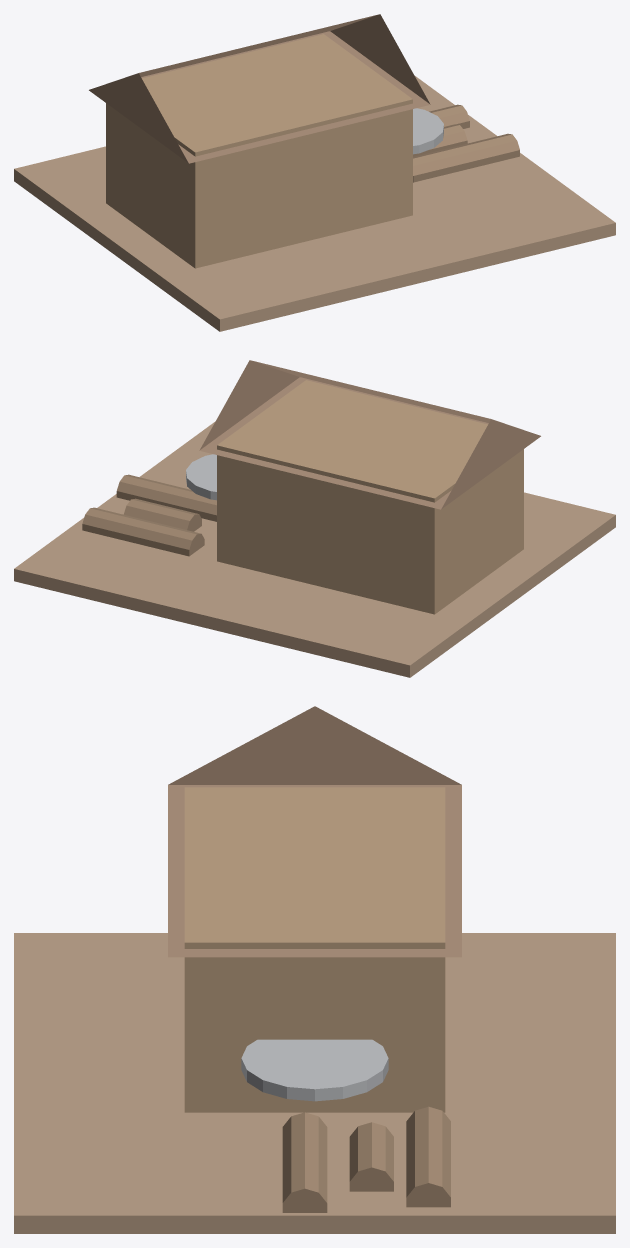
The model's file is sawmill.glb.
The picture shows the model from 3 angles, top to bottom: view 1: azimuth 30°, elevation 25°; view 2: azimuth 150°, elevation 25°; view 3: azimuth 270°, elevation 25°; orthographic projection. The views are drawn at different scales.
Visible parts, largest first — view 1: mill_body, ground, mill_roof, log_4, log_3, saw_blade, log_2, log_1; view 2: mill_body, ground, mill_roof, log_0, log_2, log_4, log_1, log_3, saw_blade; view 3: ground, mill_body, mill_roof, saw_blade, log_2, log_4, log_1, log_3, log_0.
Part boxes in pixels (x1,y1,x2,y2): mill_body: (106, 34, 412, 268); ground: (14, 75, 615, 331); mill_roof: (89, 14, 430, 163); log_4: (445, 133, 519, 171); log_3: (413, 145, 476, 182); saw_blade: (413, 108, 443, 154); log_2: (413, 124, 467, 156); log_1: (429, 104, 469, 128); mill_body: (217, 380, 523, 614); ground: (14, 421, 615, 677); mill_roof: (199, 360, 540, 509); log_0: (126, 518, 204, 556); log_2: (123, 498, 201, 531); log_4: (116, 474, 190, 506); log_1: (82, 507, 154, 540); log_3: (160, 485, 216, 521); saw_blade: (186, 454, 216, 500); ground: (14, 933, 615, 1233); mill_body: (184, 787, 445, 1112); mill_roof: (168, 706, 461, 957); saw_blade: (241, 1039, 388, 1101); log_2: (349, 1122, 393, 1191); log_4: (282, 1152, 327, 1212); log_1: (406, 1137, 450, 1207); log_3: (282, 1112, 327, 1167); log_0: (406, 1106, 450, 1165).
Bounding box in the file's own units: 2 × 0.86 × 1.8.
